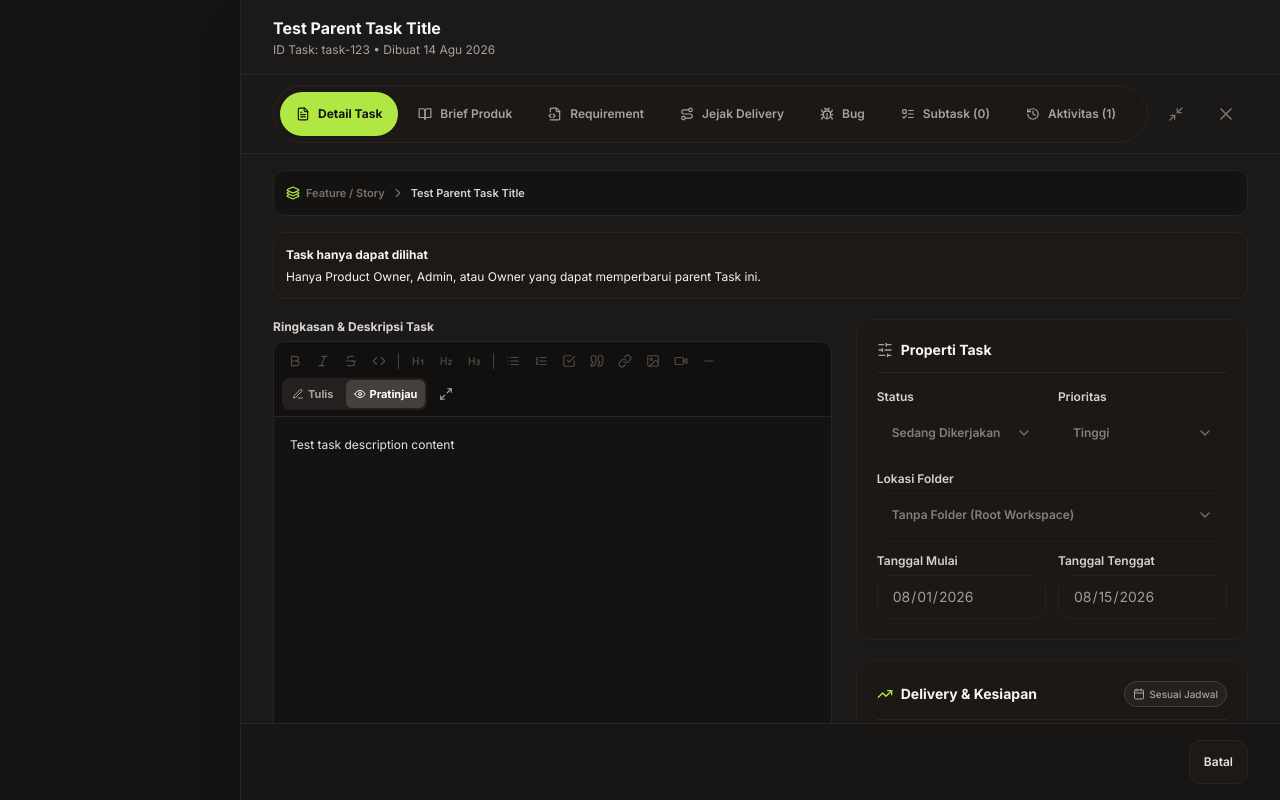
it: TaskDetailDrawer UI Component › opens Jejak Delivery inside the existing task drawer
Expected: the heading "Test Parent Task Title" is shown, [273,18,441,38]
Click the tab "Jejak Delivery".
click(732, 114)  # box [664,92,800,136]
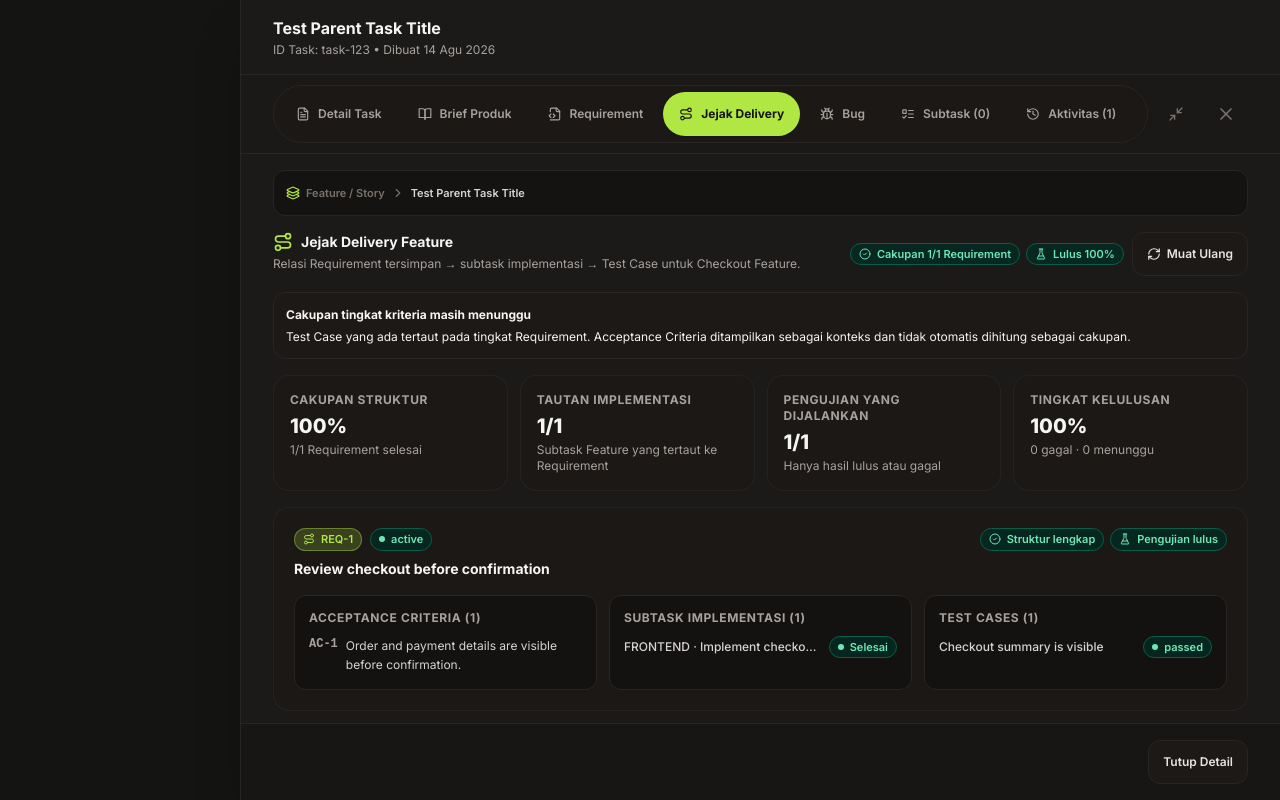
Expected: the button named "Tutup panel" is shown, [1204,92,1248,136]
Expected: the heading "Jejak Delivery Feature" is shown, [301,232,453,252]
Expected: the element with test id "task-delivery-trace-panel" is shown, [273,232,1248,710]
